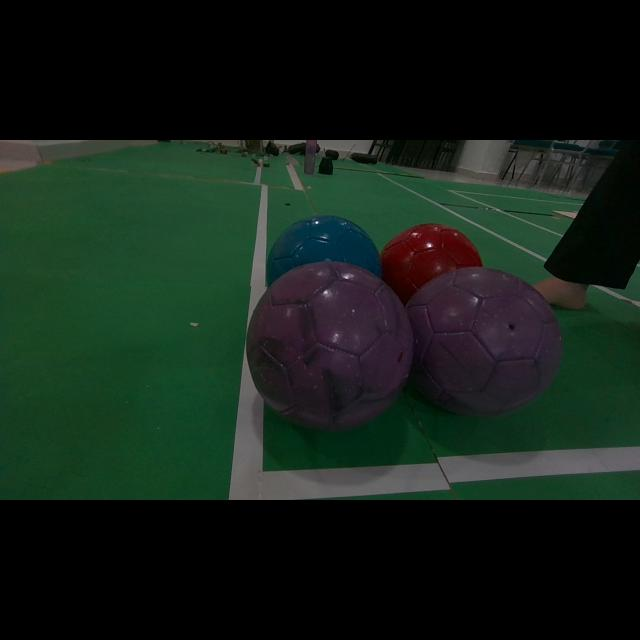B: (266, 215, 382, 285)
P: (246, 261, 412, 429), (406, 269, 562, 415)
R: (380, 224, 482, 304)
